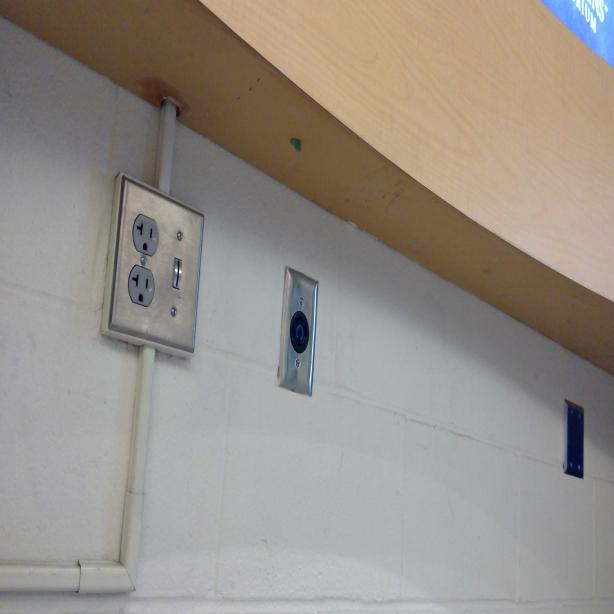typeb: (132, 212, 158, 260), (129, 267, 154, 305)
